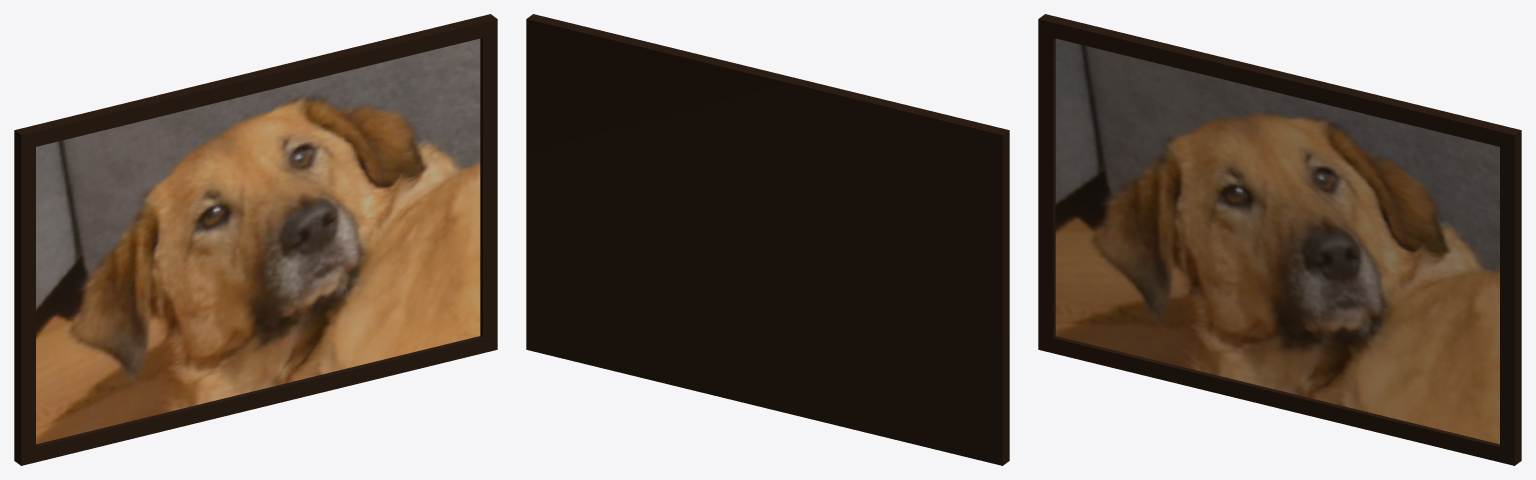
The model's file is Paint01.fbx.
3 renders of one model, left to right at view 1: azimuth 30°, elevation 25°; view 2: azimuth 150°, elevation 25°; view 3: azimuth 330°, elevation 25°, orthographic.
Parts seen in each view (by area): view 1: Cube; view 2: Cube; view 3: Cube.
Part boxes in pixels (x1=…): Cube: x1=14, y1=14, x2=497, y2=465; Cube: x1=526, y1=14, x2=1009, y2=465; Cube: x1=1038, y1=14, x2=1521, y2=465.
Bounding box in the file's own units: 301 × 200 × 7.56.
